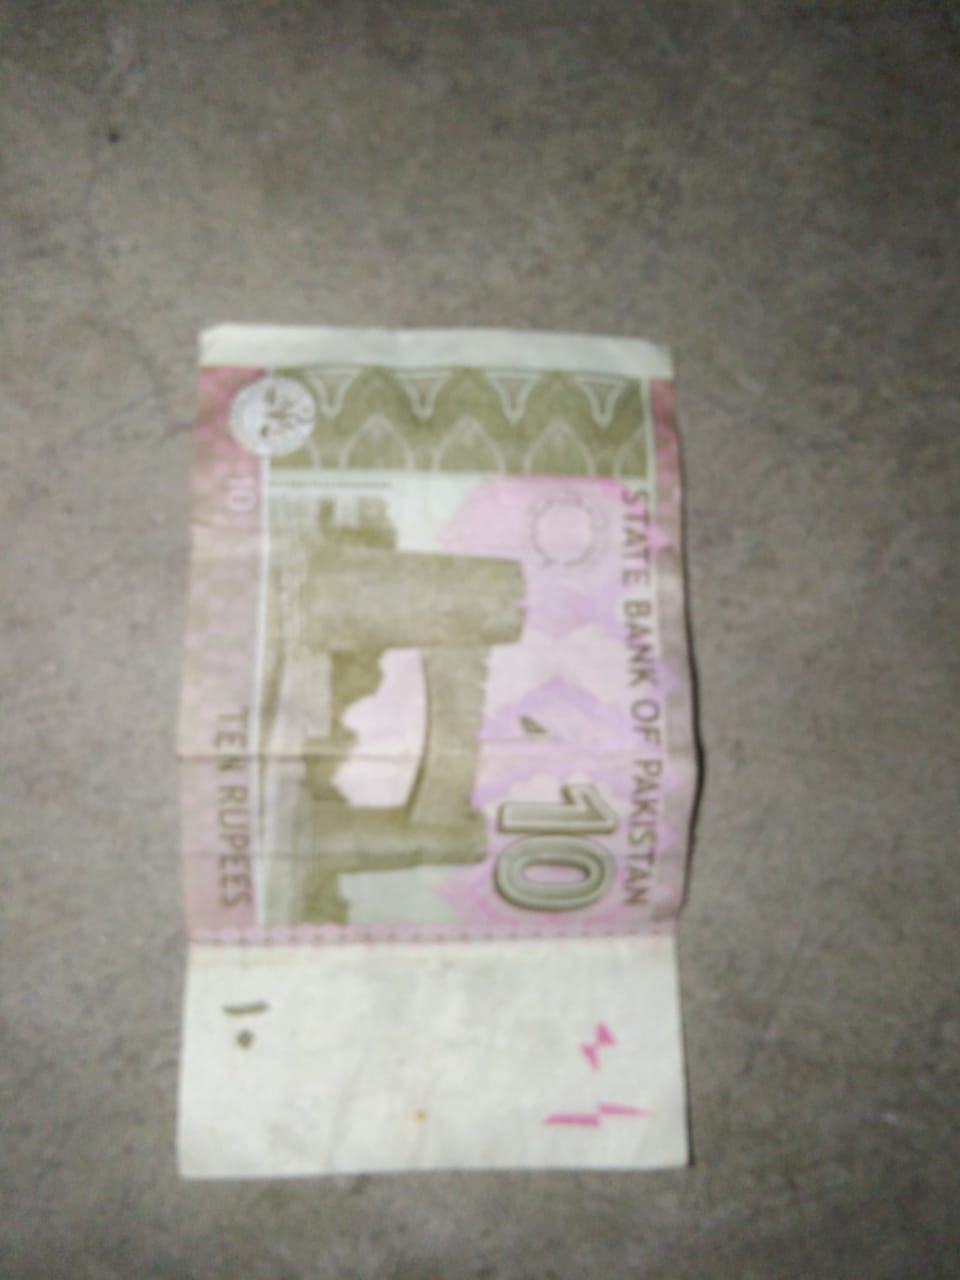10 rupee: (183, 324, 692, 1179)
